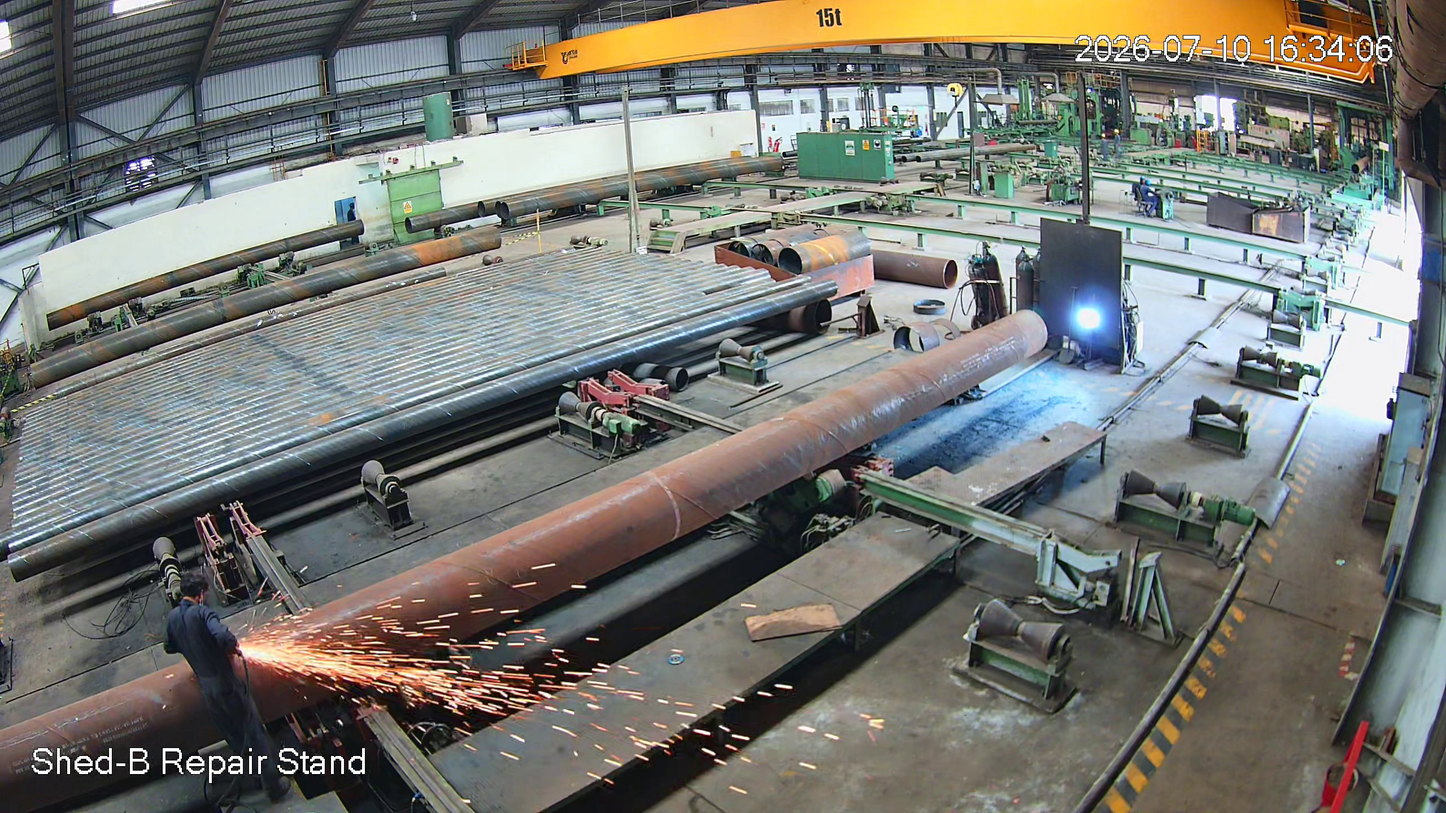Person: (153, 572, 324, 808)
